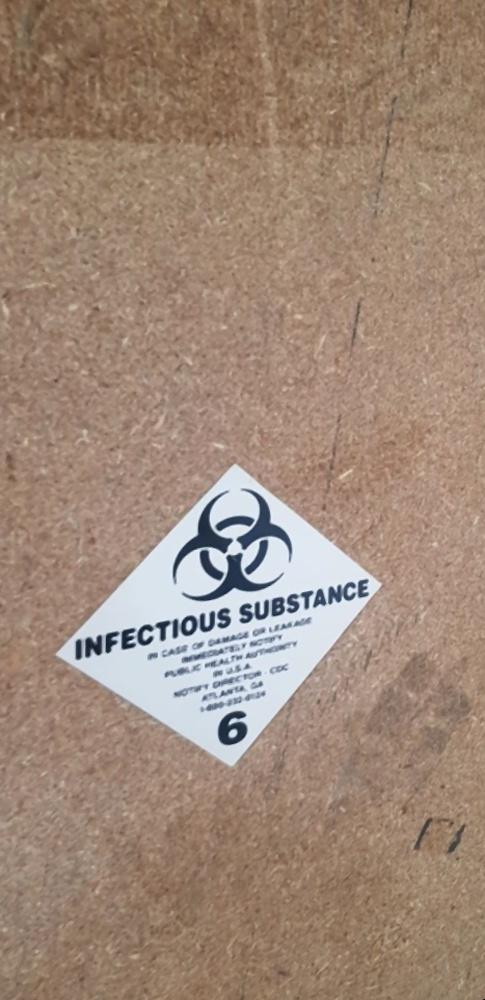infectious-substance: (46, 441, 393, 819)
